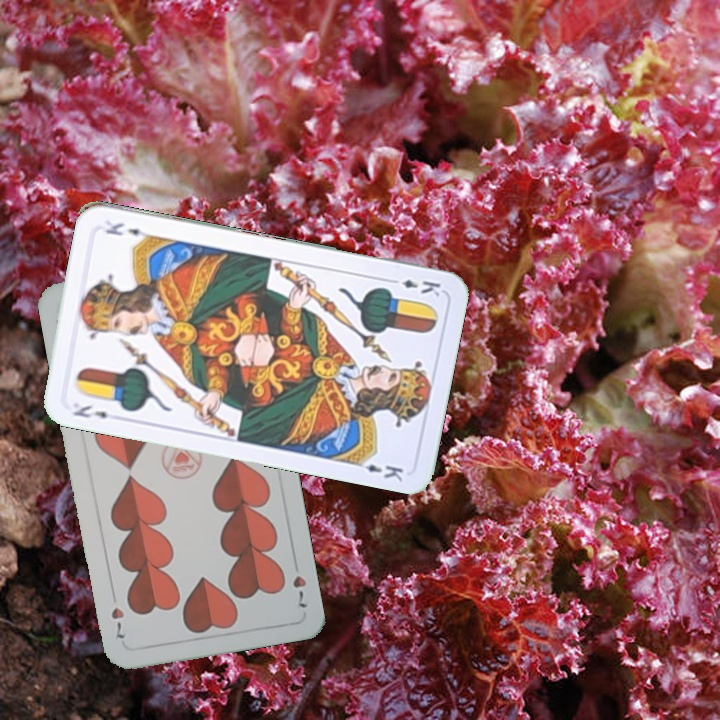EK: (385, 274, 443, 299), (69, 399, 111, 421)
H7: (288, 555, 311, 611)
